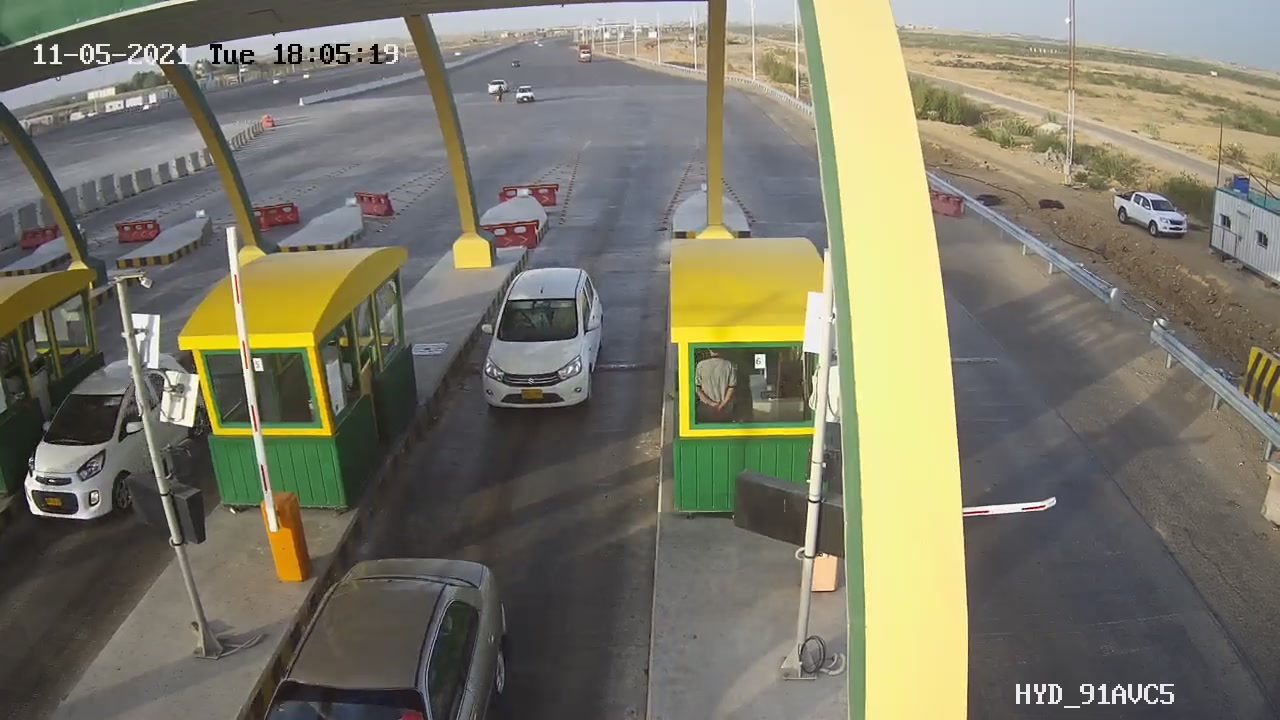F1: (461, 251, 620, 442)
